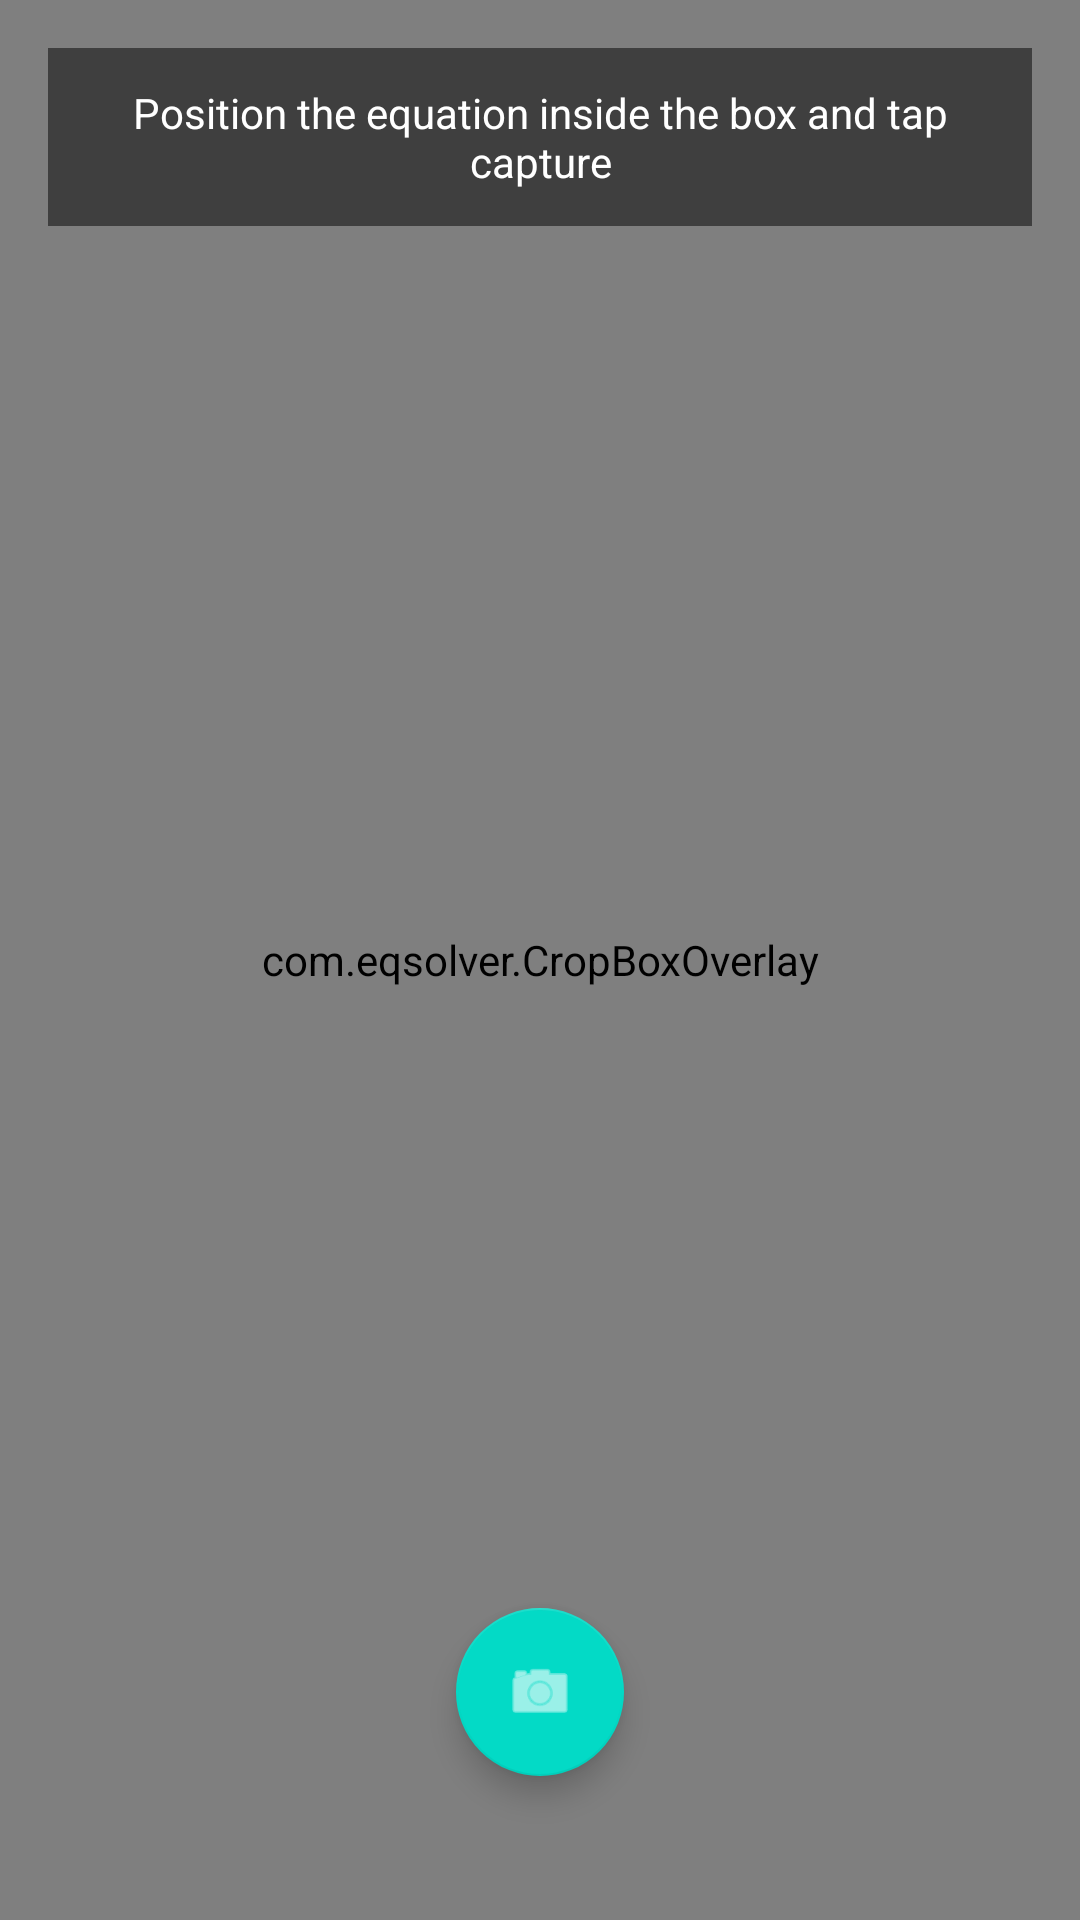

Icons on this 1080×1920 Android screen, each with the point to tap as point (x, y):
Capture: point (540, 1692)
